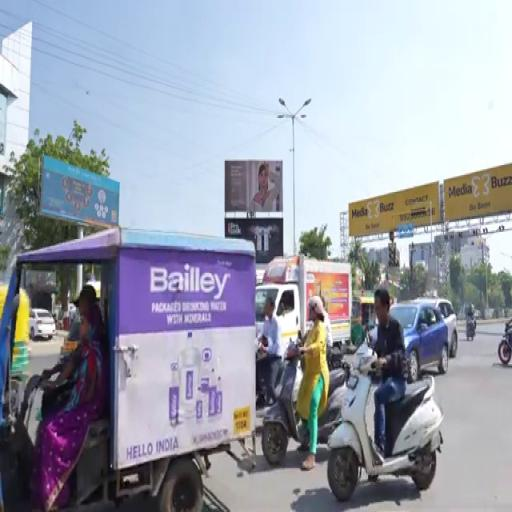Car: (391, 302, 449, 382), (415, 298, 458, 358), (60, 319, 79, 362), (29, 309, 55, 339)
